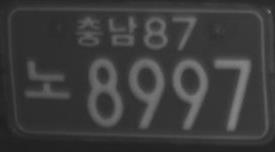7: (211, 56, 252, 133), (170, 14, 198, 51)
8: (85, 55, 124, 129), (142, 15, 169, 51)
9: (126, 55, 166, 131), (170, 56, 208, 131)
노: (23, 58, 71, 101)
충남_O: (73, 15, 139, 47)
